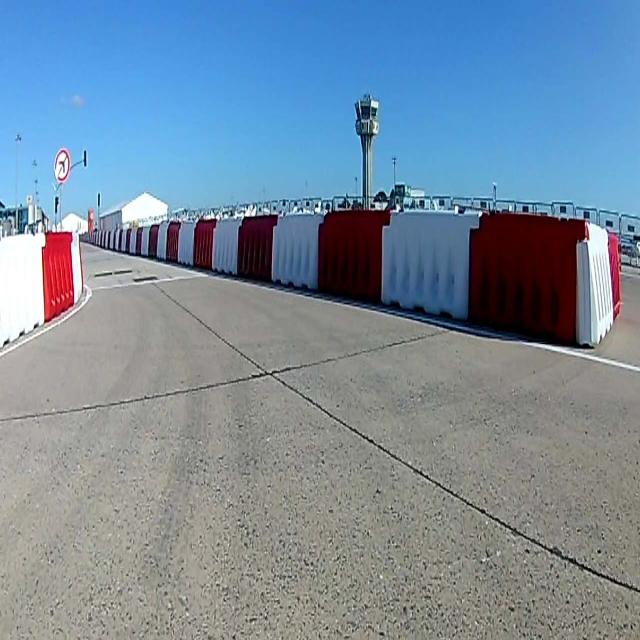soladonulmez: (54, 148, 70, 184)
